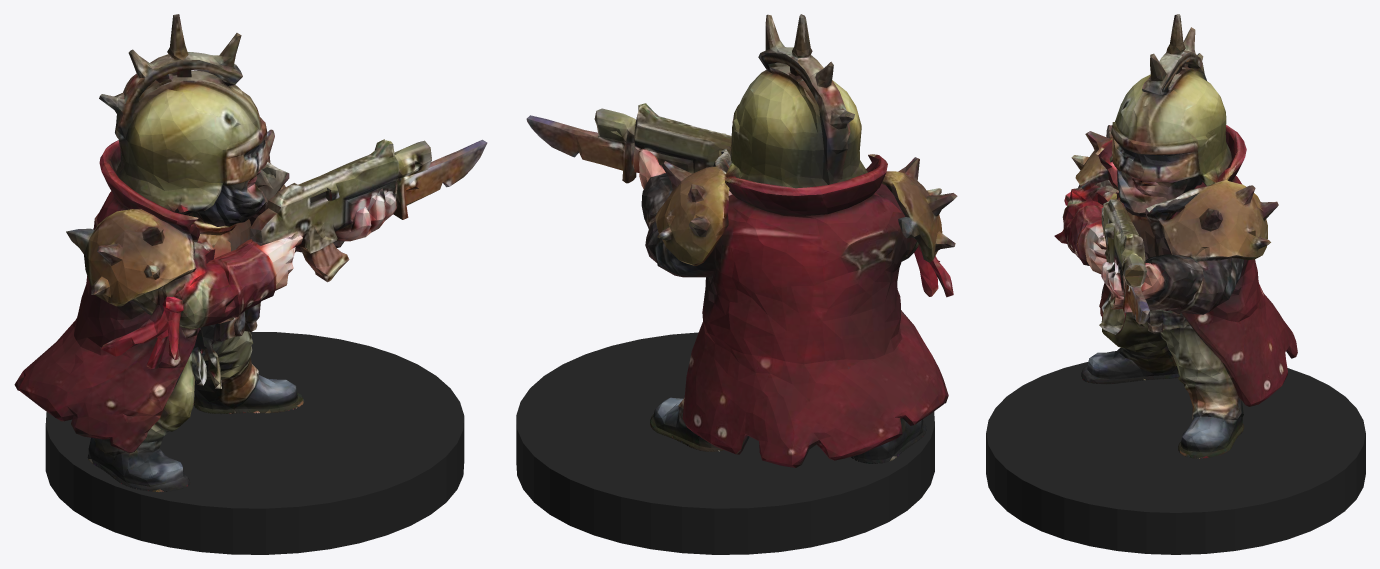
Rendered from bl-chieftain-boltgun.glb.
3 renders of one model, left to right at view 1: azimuth 30°, elevation 25°; view 2: azimuth 150°, elevation 25°; view 3: azimuth 270°, elevation 25°, orthographic. The views are drawn at different scales.
Parts seen in each view (by area): view 1: figure, base; view 2: figure, base; view 3: figure, base.
Boxes of the visible parts, box(x1,y1,x2,y2) form: figure: box(14, 14, 487, 491); base: box(45, 332, 464, 554); figure: box(526, 14, 957, 467); base: box(516, 332, 934, 554); figure: box(1054, 14, 1297, 458); base: box(986, 362, 1365, 554).
Size of the model in its own units: 1.16 by 1.22 by 0.9843.
2 materials, 1 textured.
